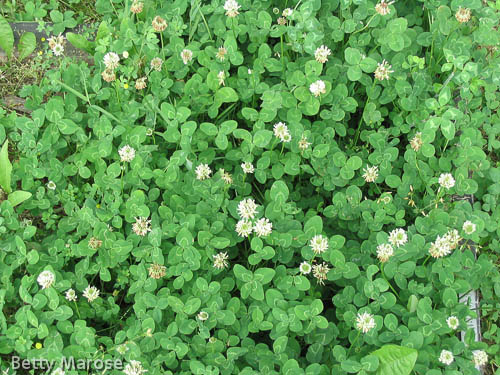clover: (12, 4, 490, 371)
